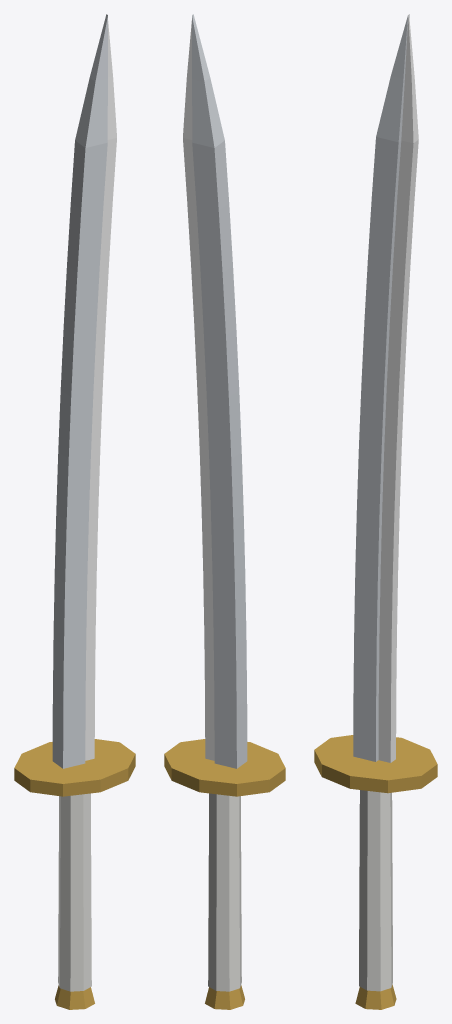
File: Sword_WadoIchimonji.fbx
3 views of the same model, side by side, from view 1: azimuth 30°, elevation 25°; view 2: azimuth 150°, elevation 25°; view 3: azimuth 330°, elevation 25° (orthographic).
Parts seen in each view (by area): view 1: Sword_WadoIchimonji; view 2: Sword_WadoIchimonji; view 3: Sword_WadoIchimonji.
Part boxes in pixels (bbox=[...]): Sword_WadoIchimonji: bbox=[14, 14, 135, 1009]; Sword_WadoIchimonji: bbox=[164, 14, 285, 1009]; Sword_WadoIchimonji: bbox=[314, 14, 437, 1009].
Bounding box in the file's own units: 0.5231 × 4.64 × 0.44.
Materials: 1 (1 with a texture image).
